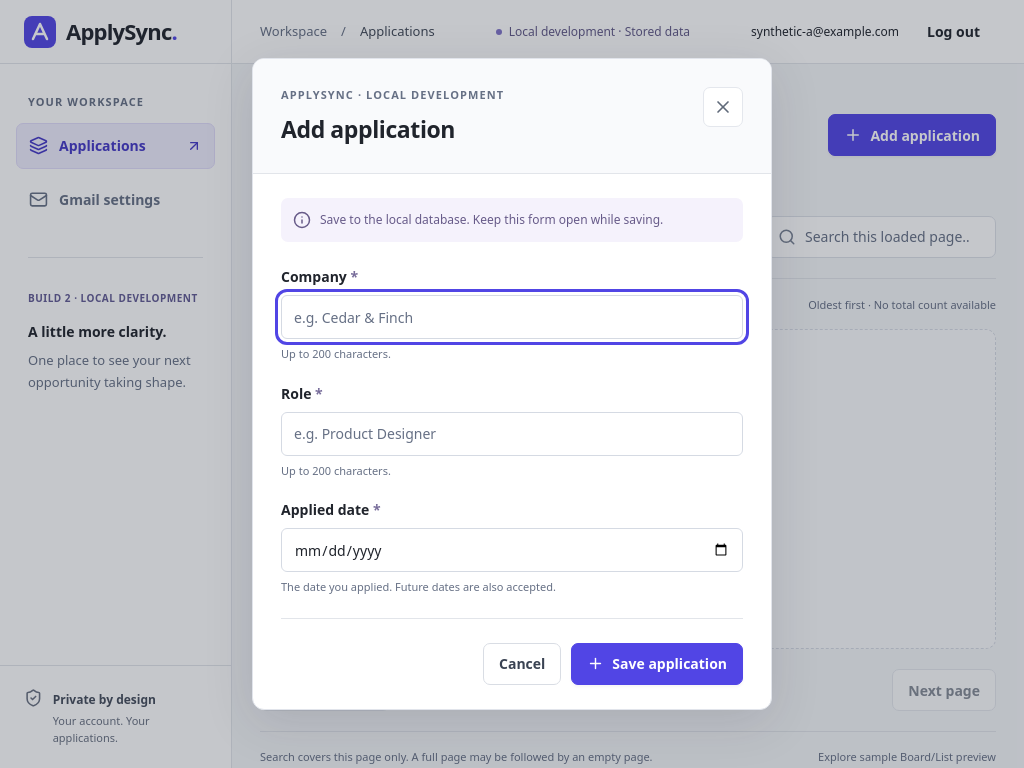
a 401 creation ends the session and never automatically replays the write
This screenshot has width=1024, height=768.
Type "Unsaved" into the field labelled "Company" at (512,317), box [281, 295, 743, 339]
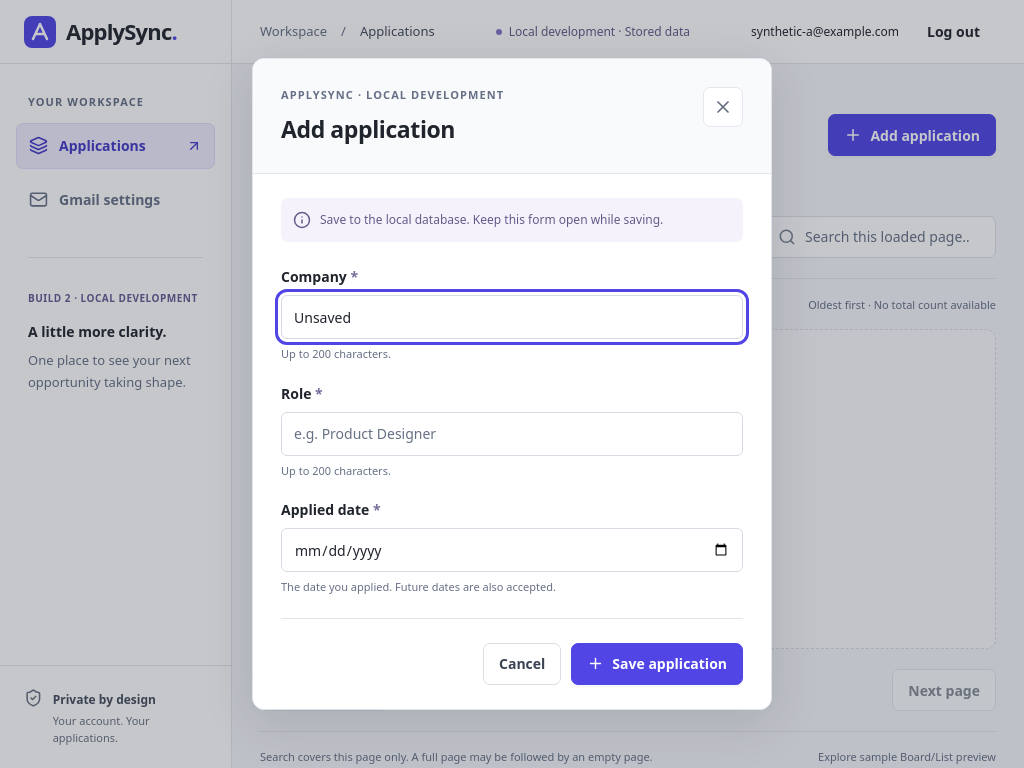
Type "Engineer" into the field labelled "Role" at (512,434), box [281, 412, 743, 456]
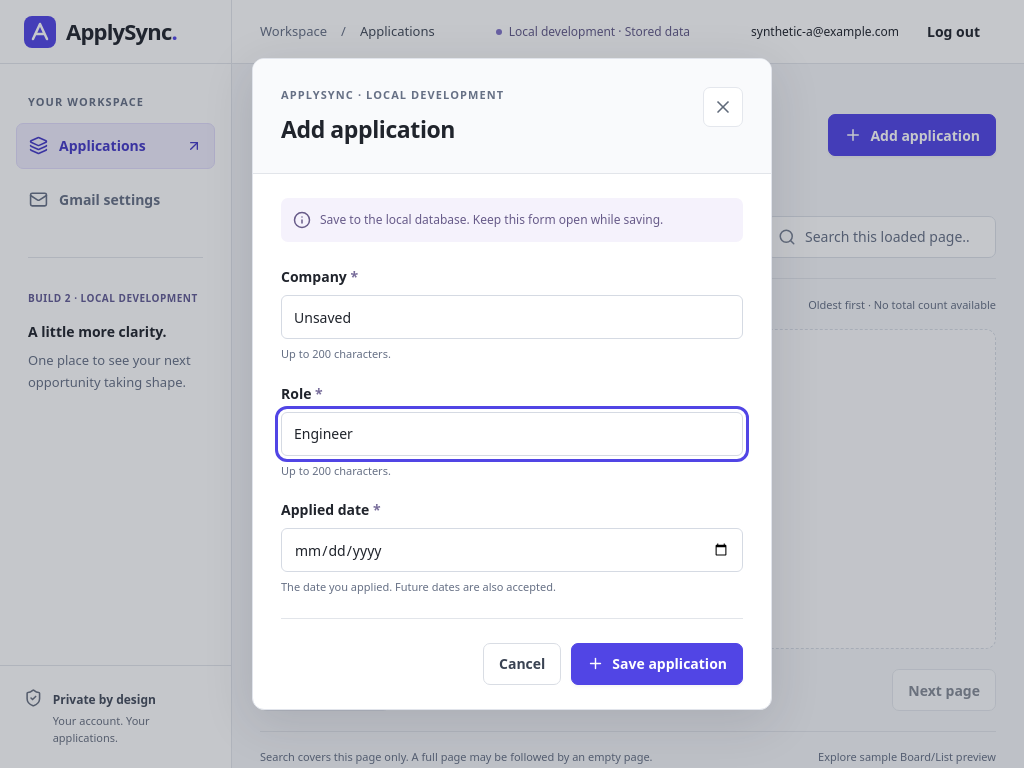
Type "2026-09-01" into the date field labelled "Applied date" at (512,550), box [281, 528, 743, 572]
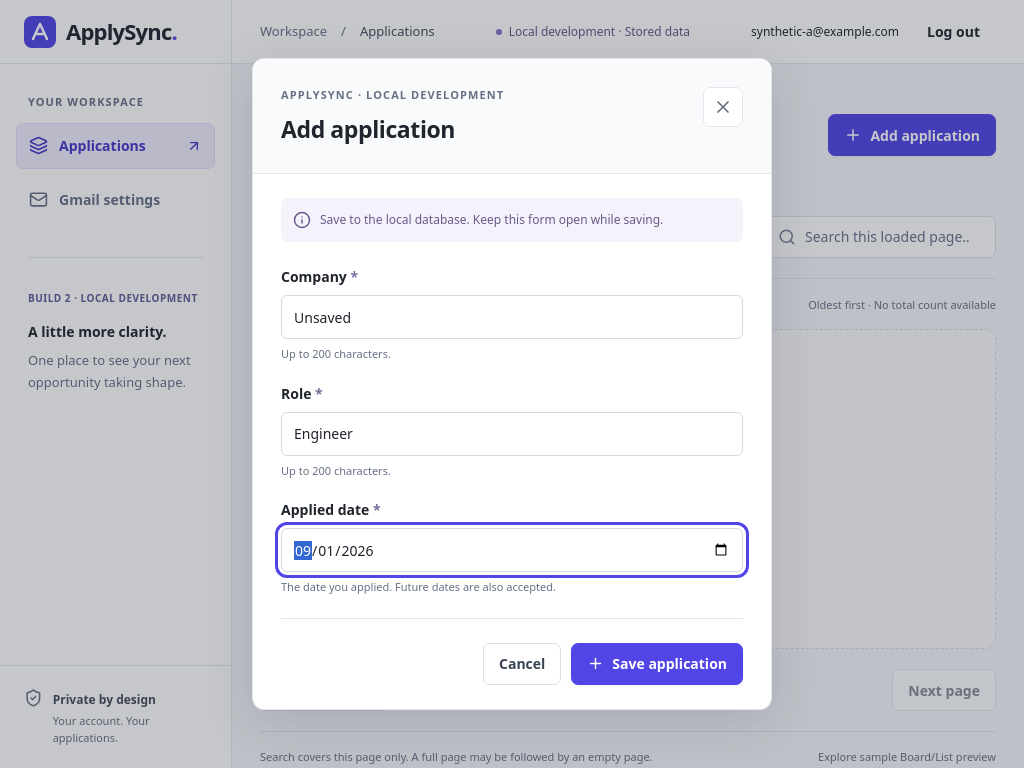
Click the button "Save application" at (657,664), box [571, 643, 743, 685]
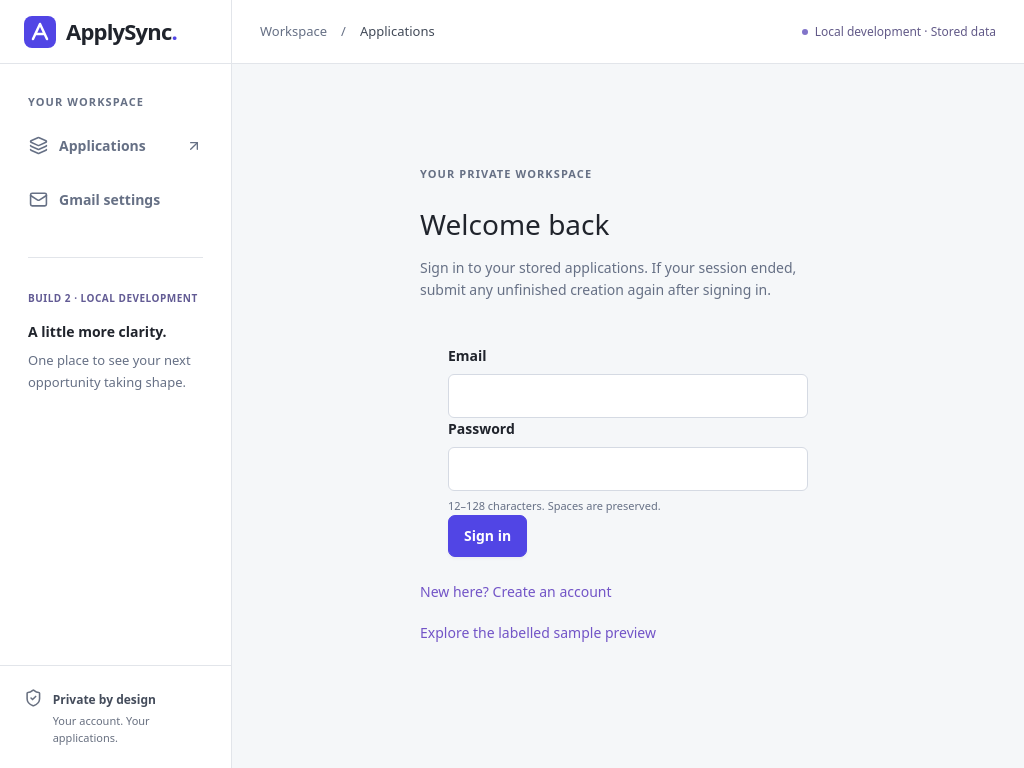
Expected: the heading "Welcome back" is shown, [420, 204, 610, 242]
Expected: the dialog is gone
